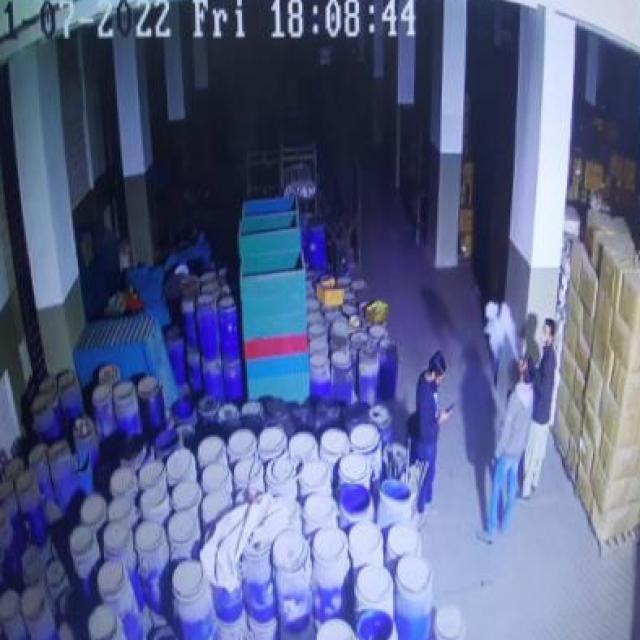fire: (482, 296, 517, 363)
